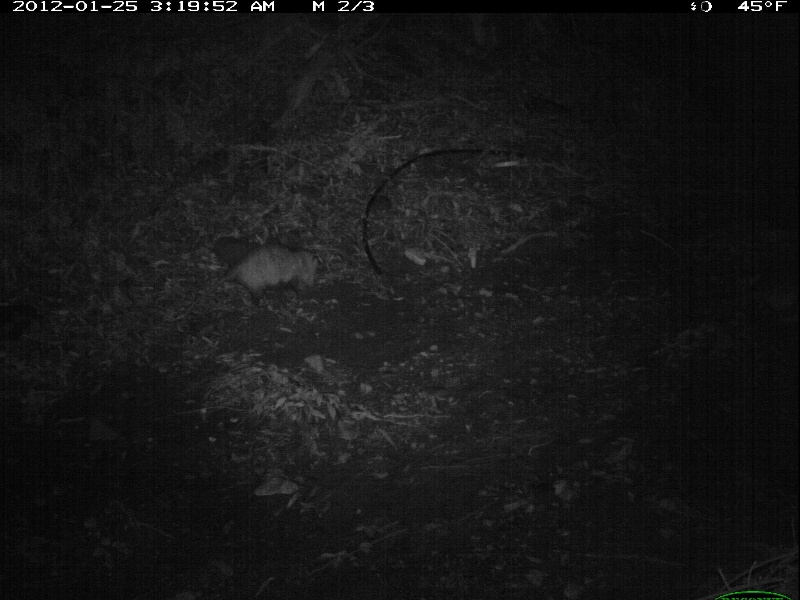opossum: (209, 247, 329, 299)
